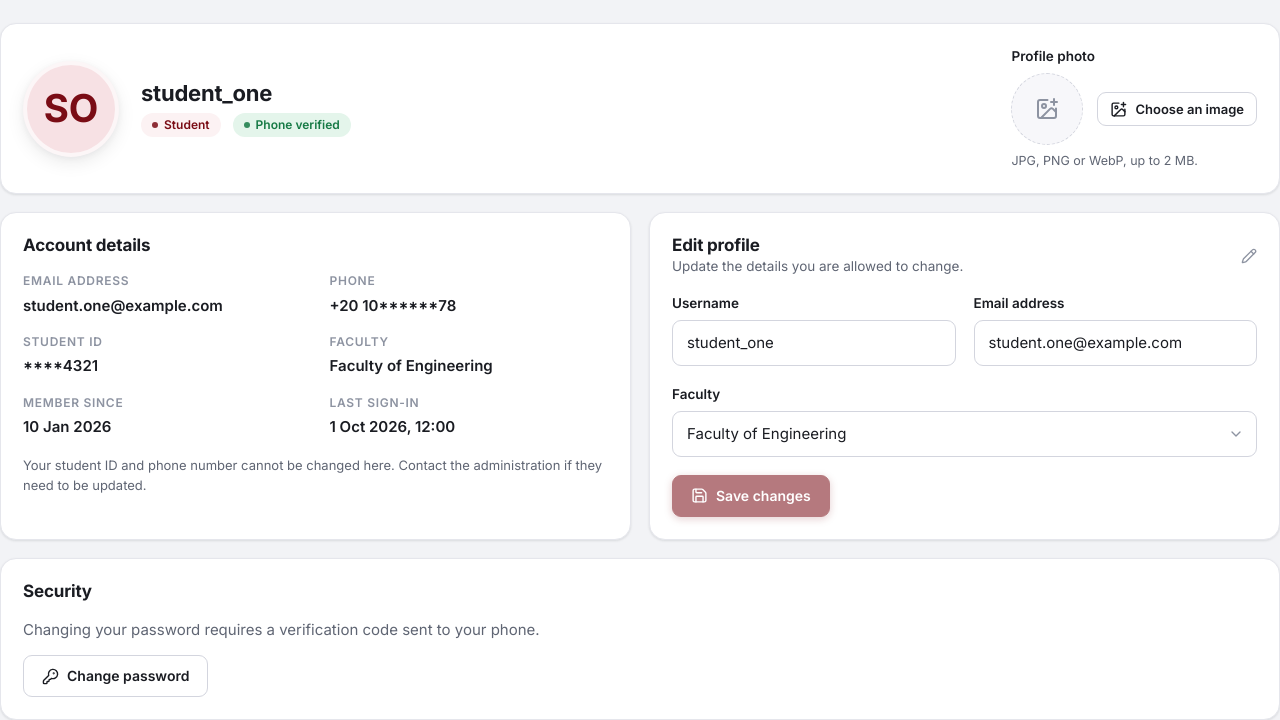
Test: Profile page › shows the server message when the current password is wrong
The image size is (1280, 720).
(page scrolled)
Click the button "Change password".
click(116, 676)  # box [23,655,208,697]
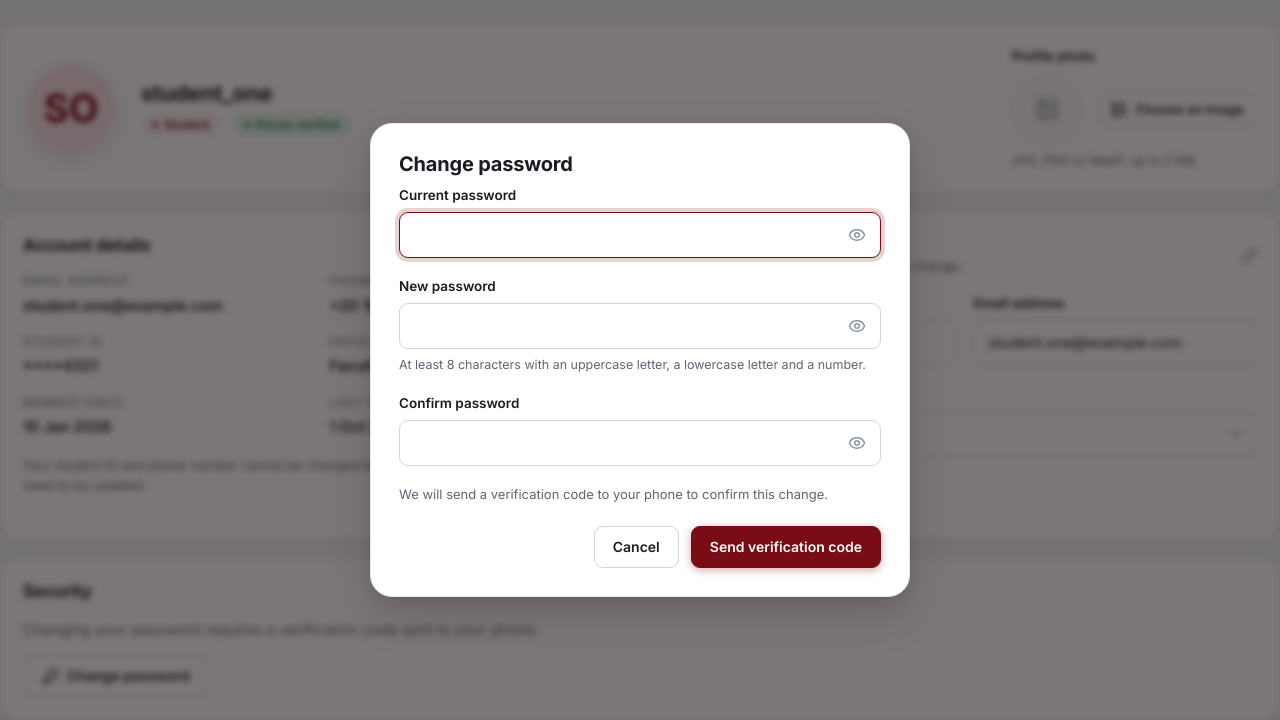
Type "WrongPassw0rd" into the password field labelled "Current password".
click(640, 235); type("WrongPassw0rd")  # box [399,212,881,258]
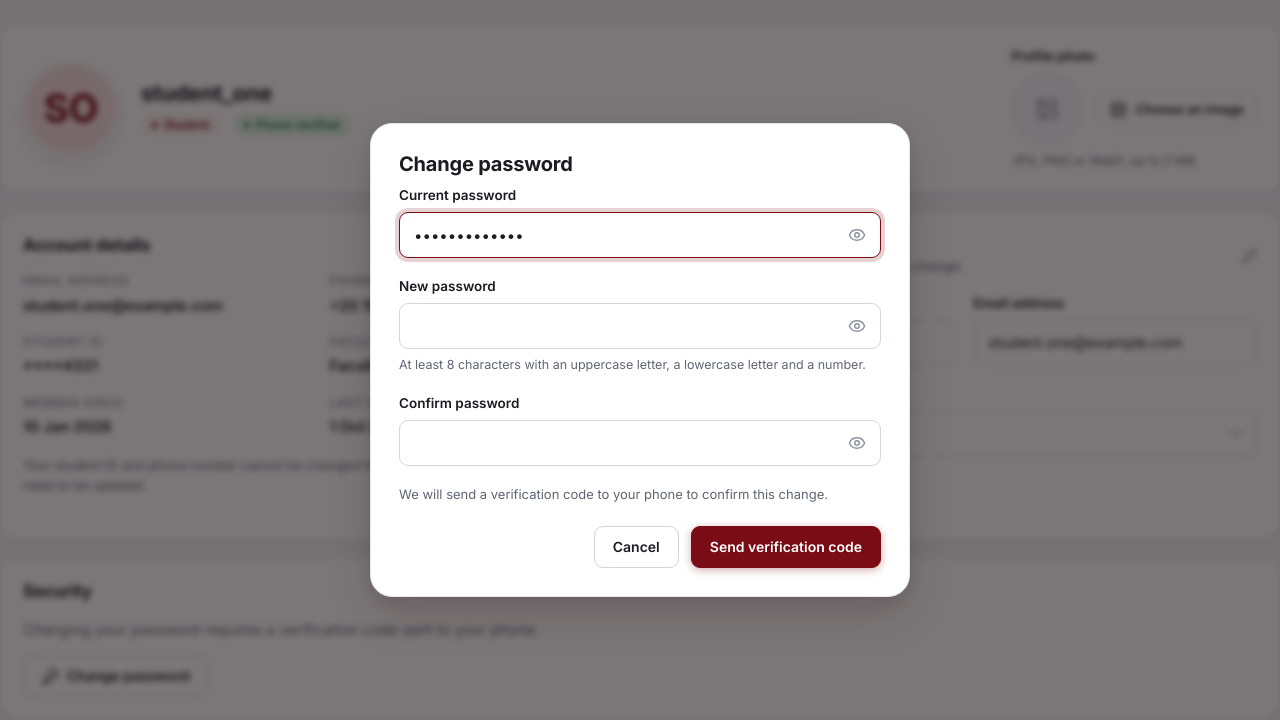
Type "NewPassw0rd" into the password field labelled "New password".
click(640, 326); type("NewPassw0rd")  # box [399,303,881,349]
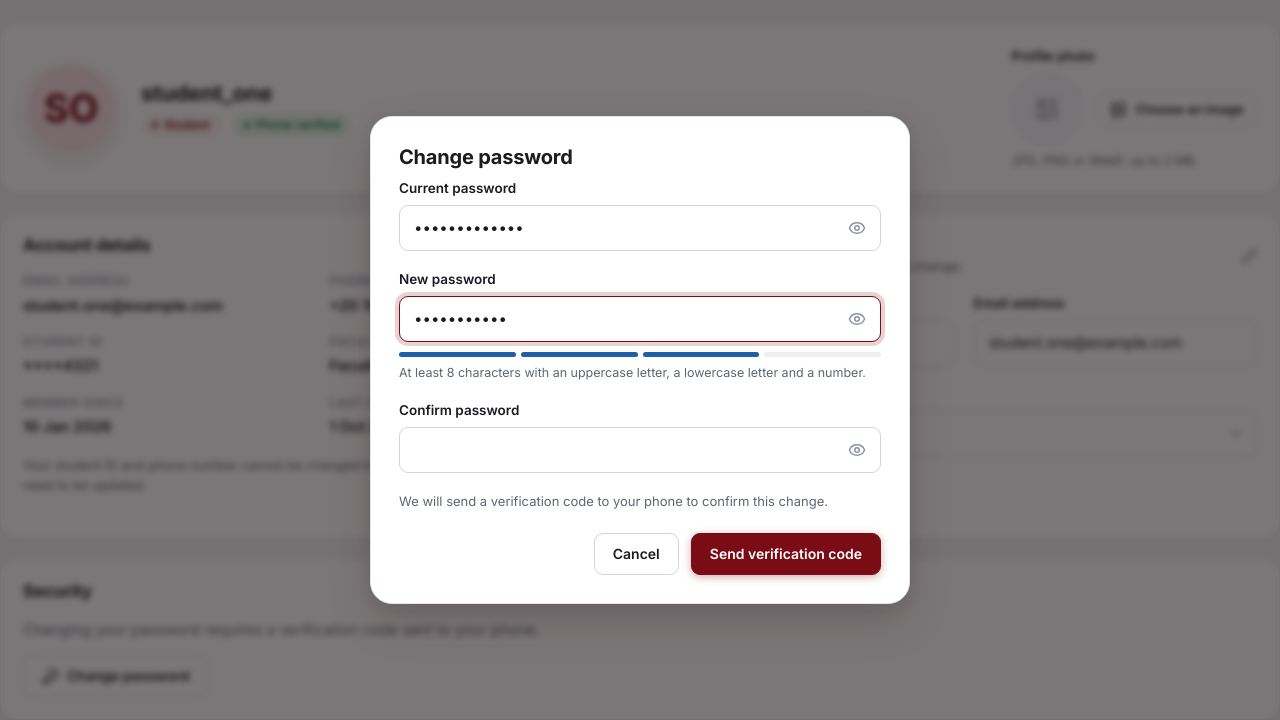
Type "NewPassw0rd" into the password field labelled "Confirm password".
click(640, 450); type("NewPassw0rd")  # box [399,427,881,473]
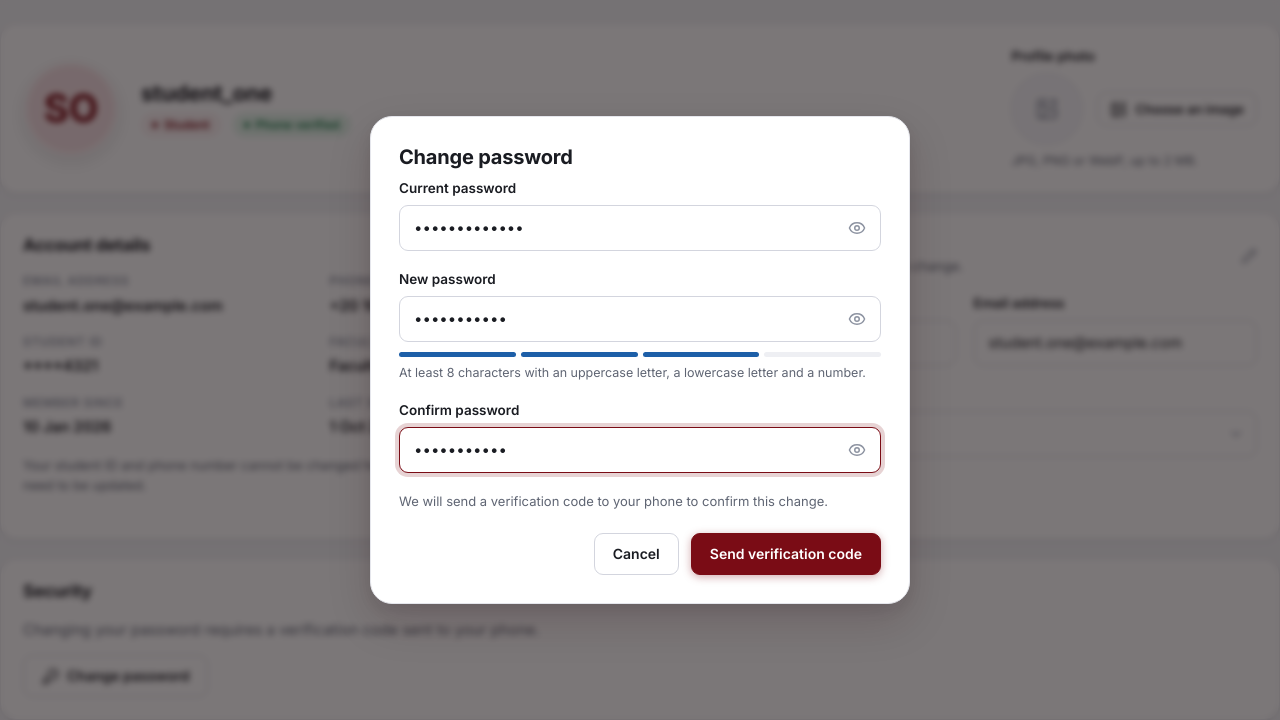
Click the button "Send verification code".
click(786, 554)  # box [691,533,881,575]
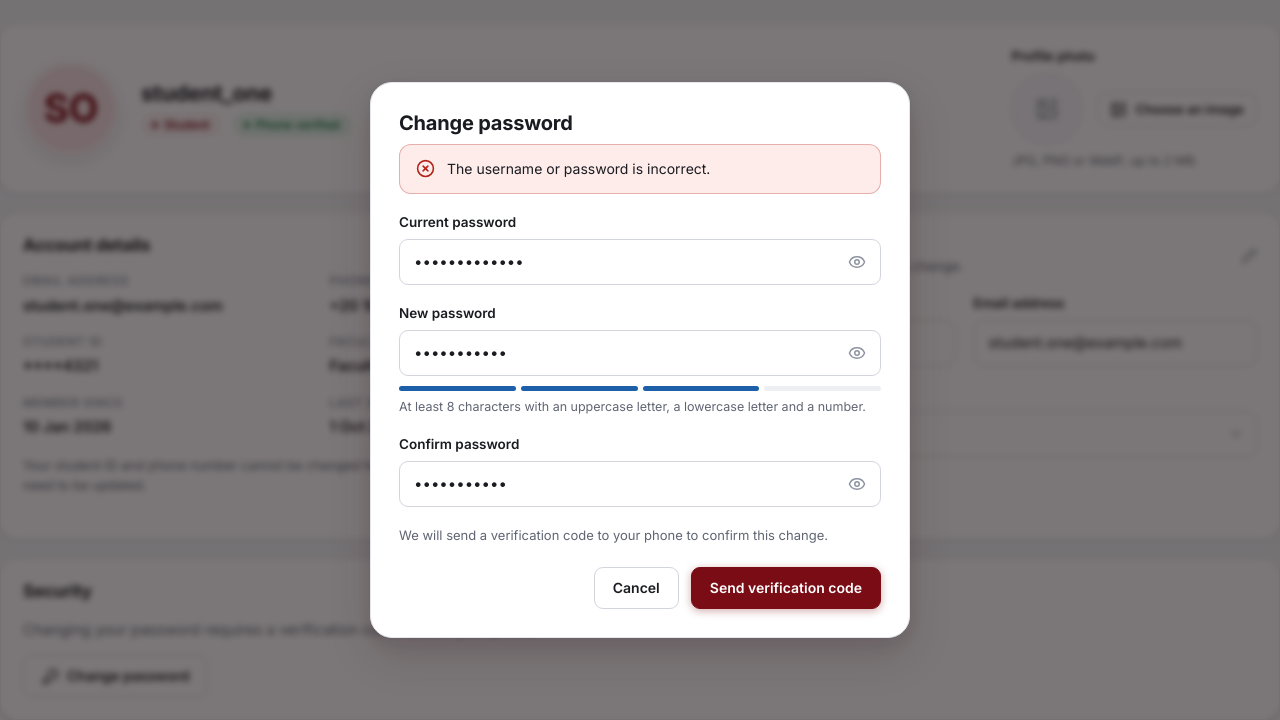
Now the text "The username or password is incorrect." is shown, box [447,160,710,177]
